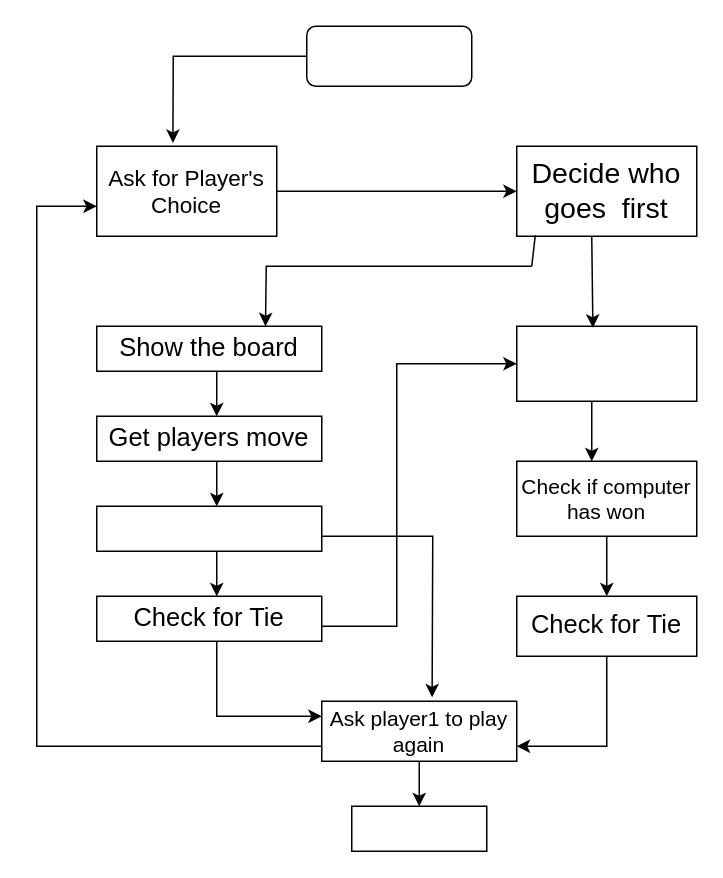
The diagram is 723 pixels wide and 878 high, and some of its shapes have lost their labels. Here are the shapes that lost their labels. From the top down, the box of each, then its label:
(305, 25, 472, 86): START
(515, 325, 697, 401): Get computer's move
(95, 505, 322, 551): Check if Player1 has won
(350, 805, 487, 851): END
